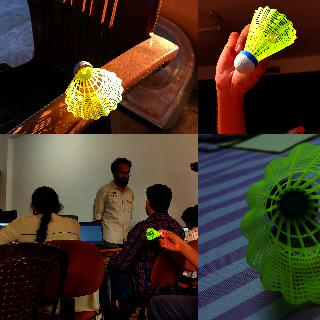shuttlecock: (241, 139, 319, 306), (234, 6, 296, 74), (65, 61, 123, 119), (146, 227, 162, 239)
